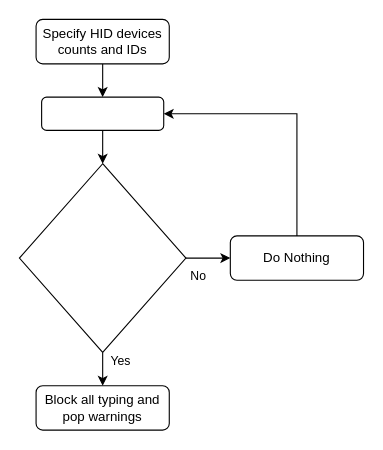
Some shapes in this 383 by 450 pixel diagram are drawn without their labels. The centre of each missing label's shape, as x and y in pixels:
"Detect HID devices" goes at pixel 102 113.
"HID device count over-limit and there is an HID device with an unspecified ID?" goes at pixel 102 257.
